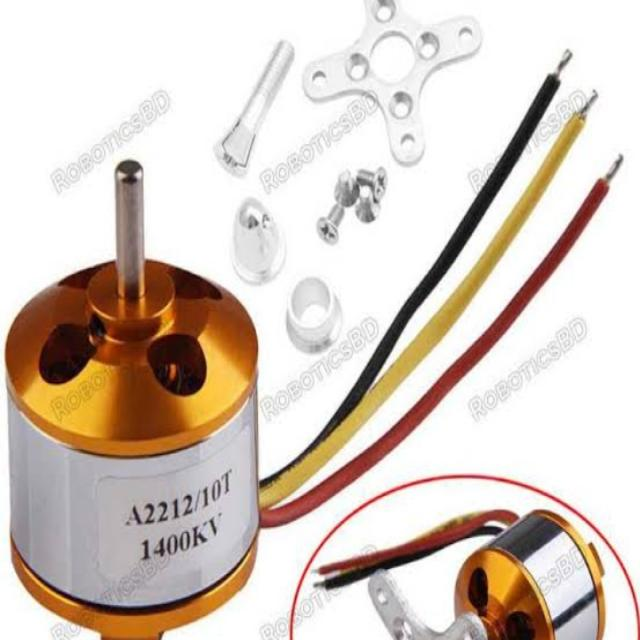motor: (3, 161, 260, 640)
